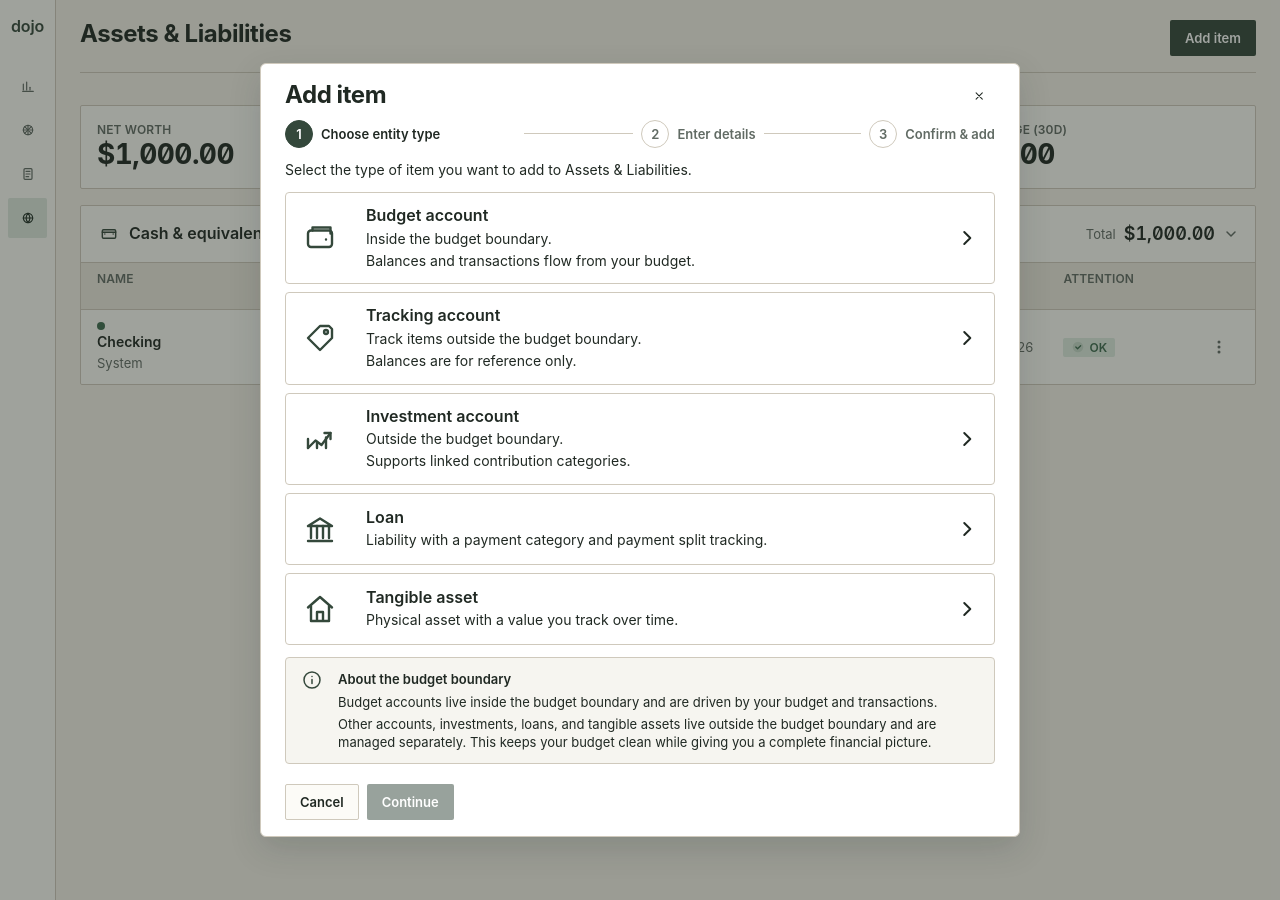
Test: Assets & Liabilities shell composition › keeps the overview behind the Add Item wizard and returns to it on close
The width and height of the screenshot is (1280, 900).
Check: the dialog with test id "add-item-wizard" is shown, box [260,63,1020,837]
Check: the element with test id "assets-liabilities-page" is shown, box [56,0,1279,472]
Click the button with test id "add-item-close": (979, 96) [963,80,995,112]
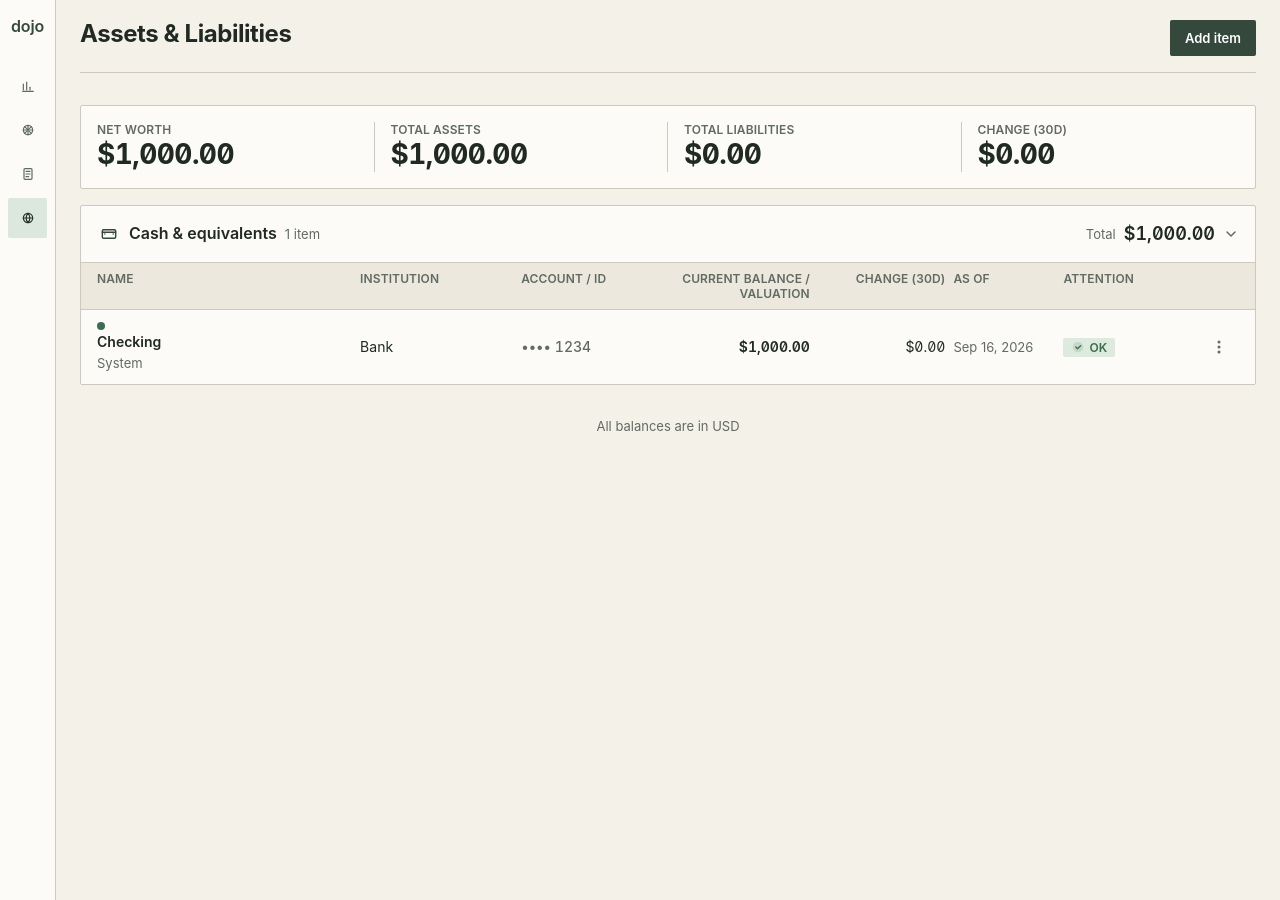
Check: the element with test id "assets-liabilities-page" is shown, box [56,0,1279,472]
Check: the dialog with test id "add-item-wizard" is gone
